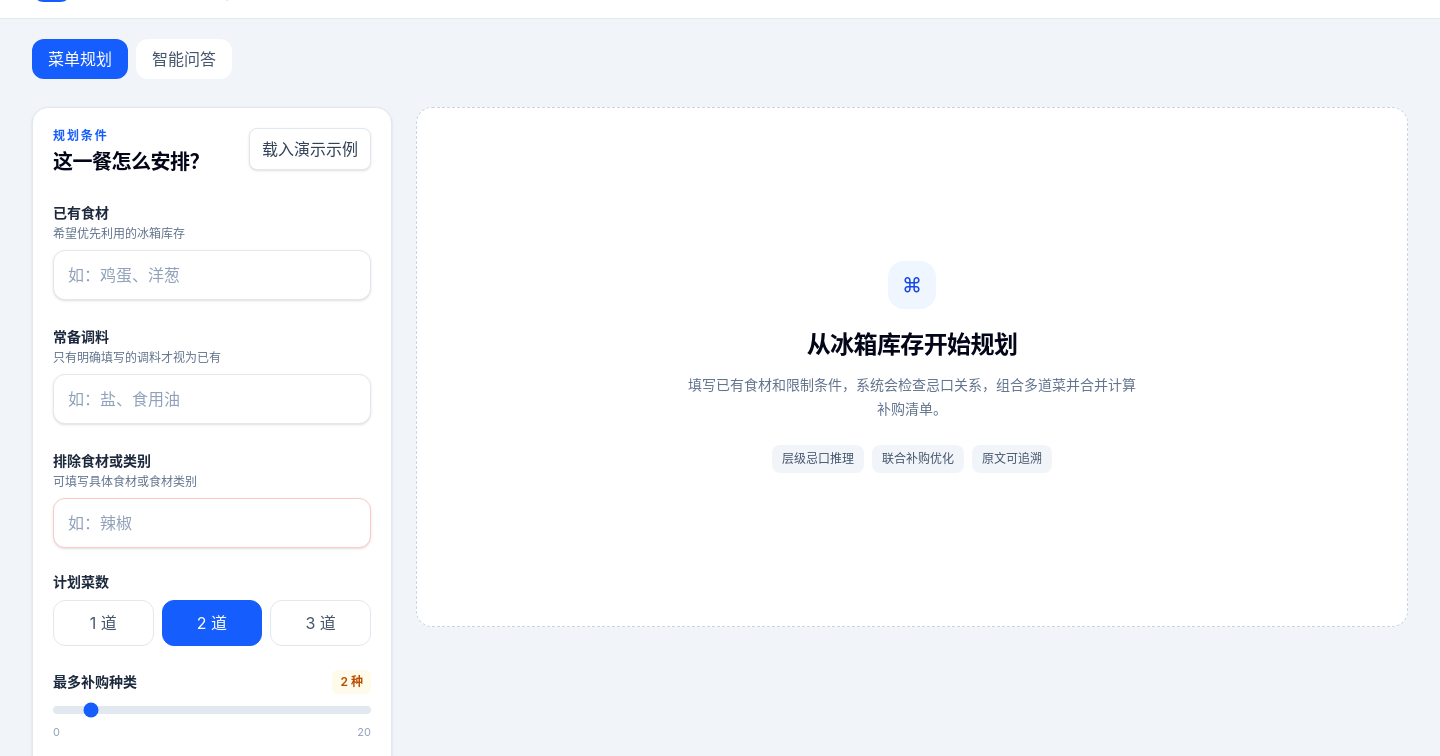
CookKG planner page › answers with a routed retriever and traceable citations
Click the button "智能问答".
click(184, 59)  # box [136,39,232,79]
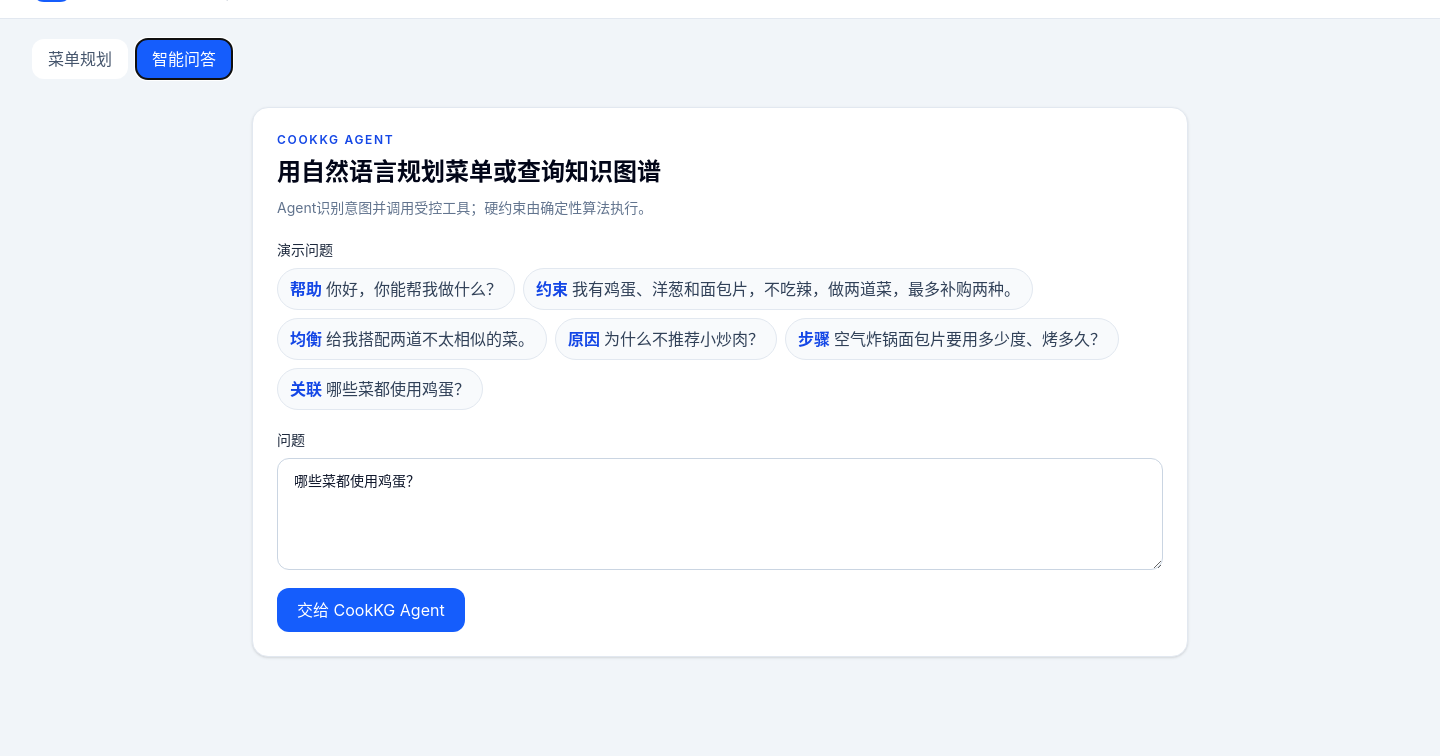
Click the button "交给 CookKG Agent".
click(371, 610)  # box [277,588,465,632]
(page scrolled)
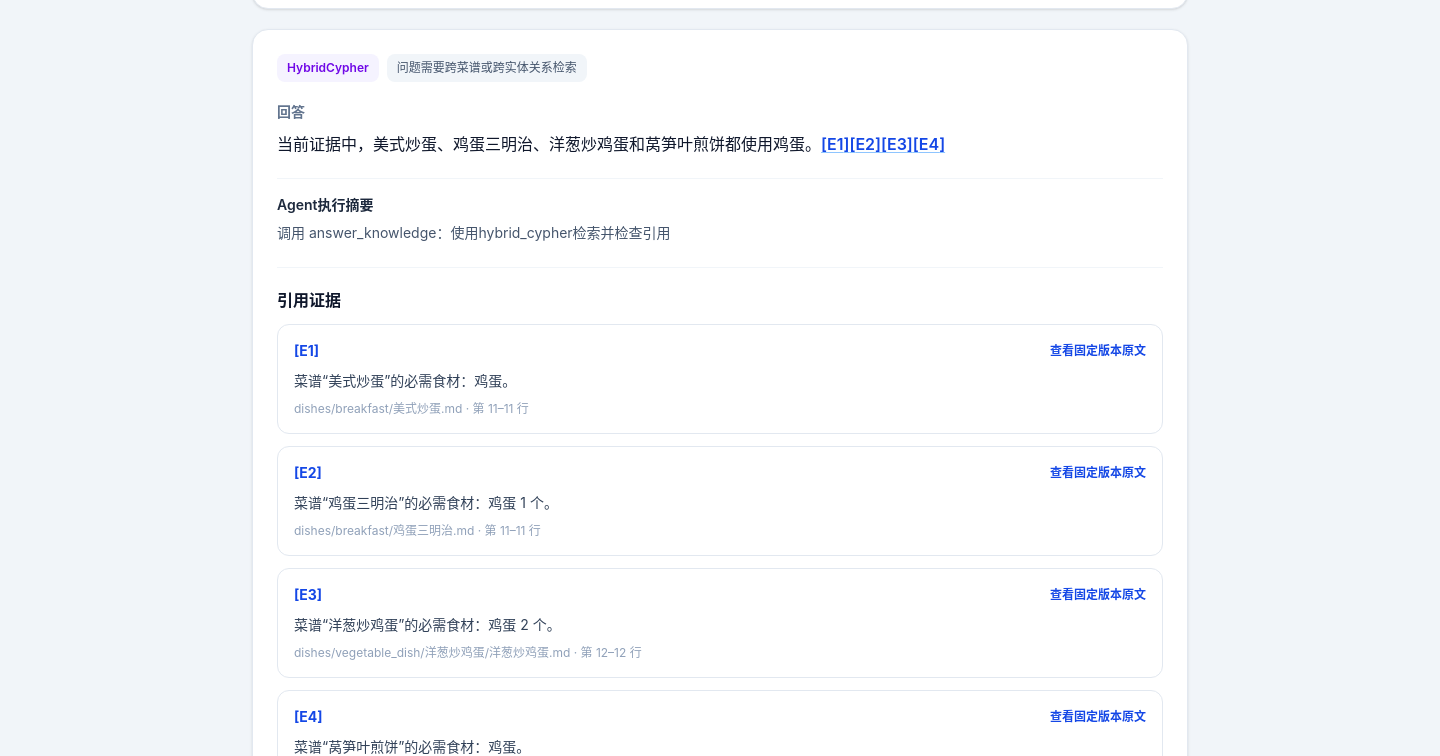
Result: the text "HybridCypher" is shown at [277,54,379,82]
Result: the text "当前证据中，美式炒蛋、鸡蛋三明治、洋葱炒鸡蛋和莴笋叶煎饼都使用鸡蛋。 [E1] [E2] [E3] [E4]" is shown at [277,134,945,154]
